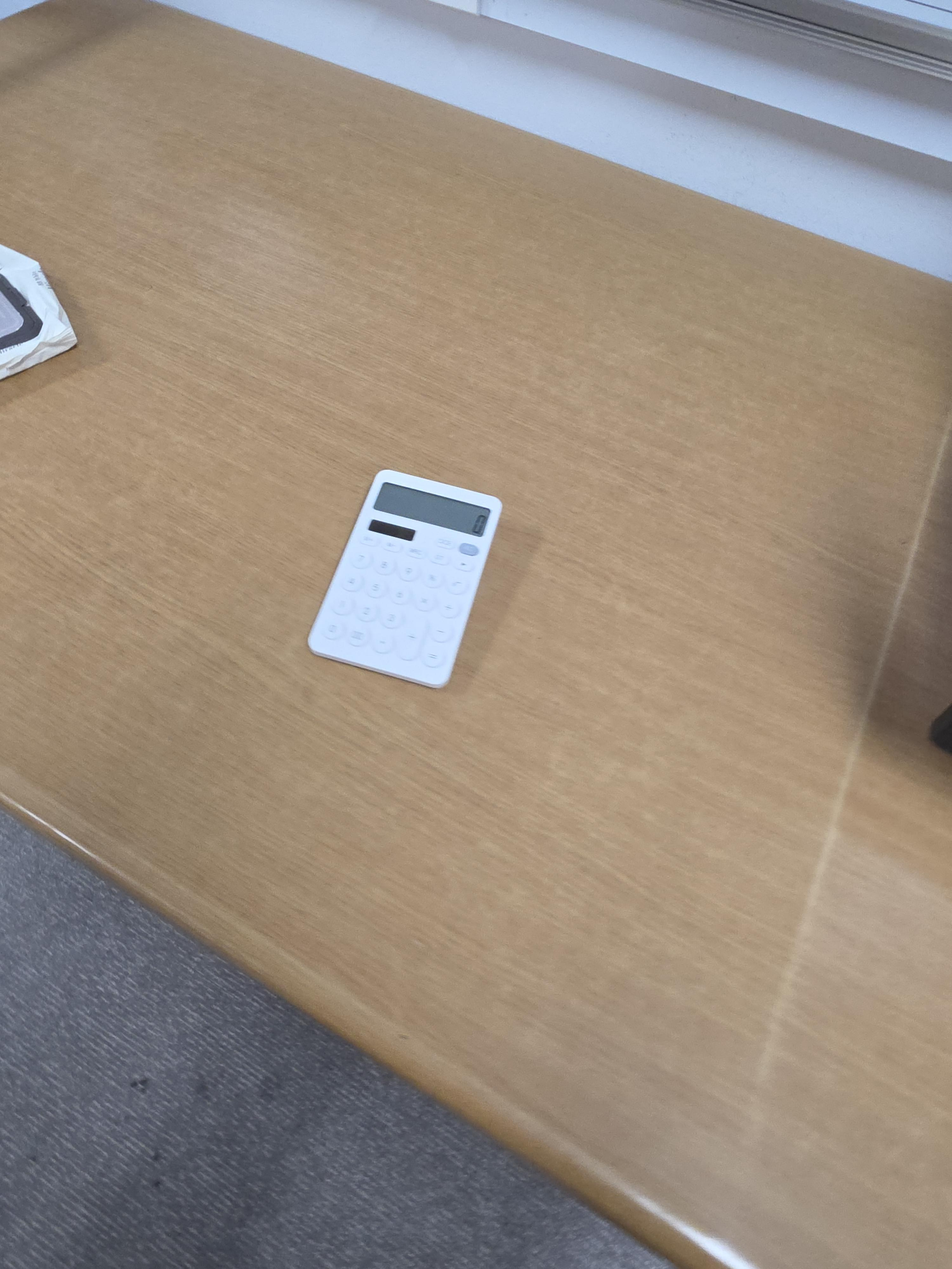calculator: (307, 469, 503, 690)
tissue: (0, 244, 78, 380)
